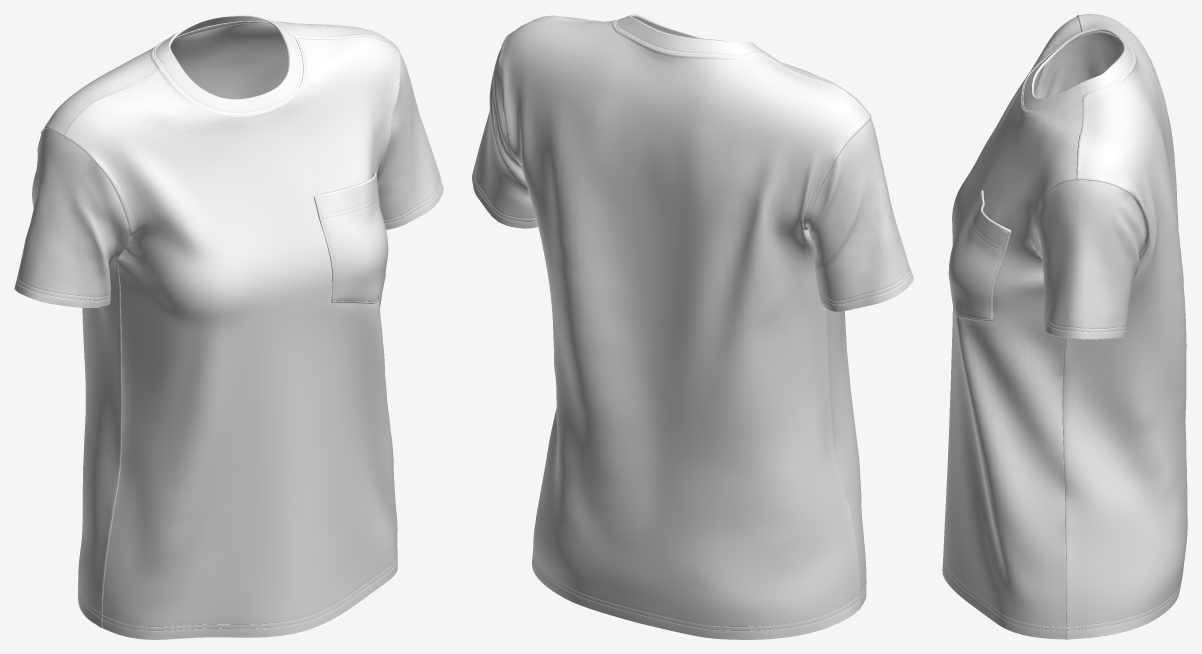
The model's file is tshirt.glb.
3 renders of one model, left to right at view 1: azimuth 30°, elevation 25°; view 2: azimuth 150°, elevation 25°; view 3: azimuth 270°, elevation 25°, orthographic. The views are drawn at different scales.
Parts seen in each view (by area): view 1: defaultobject; view 2: defaultobject; view 3: defaultobject.
Part boxes in pixels (x1,y1,x2,y2): defaultobject: [14, 14, 443, 639]; defaultobject: [472, 14, 913, 639]; defaultobject: [942, 14, 1187, 639].
Size of the model in its own units: 51.26 by 64.15 by 27.04.
1 material, 1 textured.
